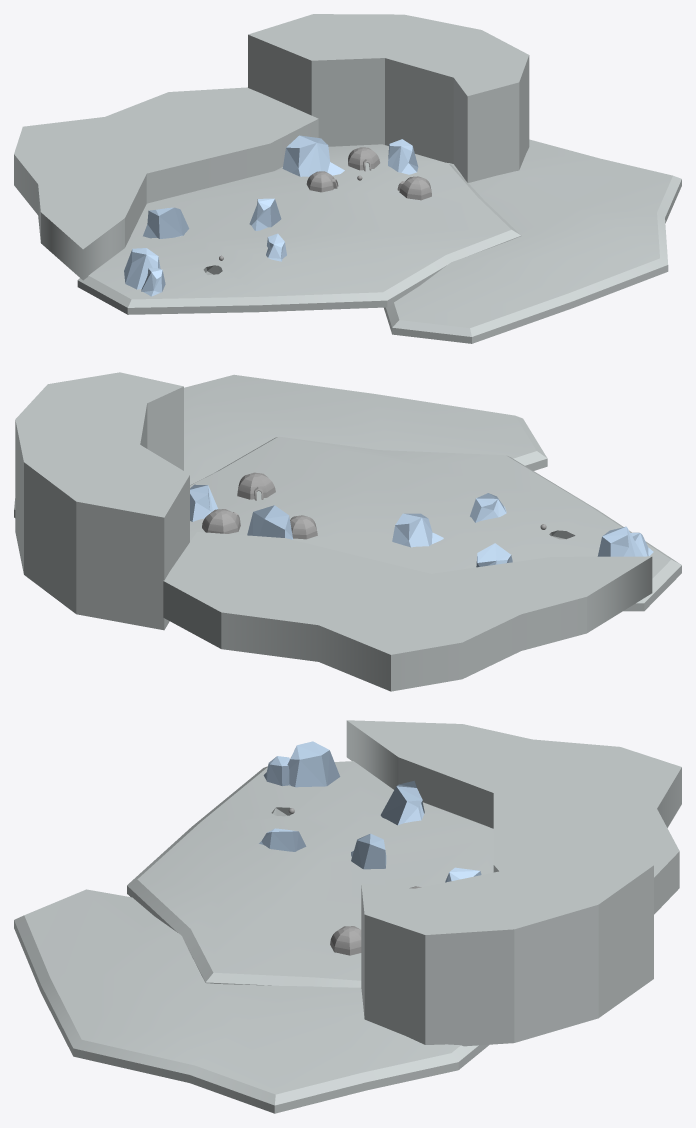
File: main island (1).fbx
3 renders of one model, top to bottom at view 1: azimuth 30°, elevation 25°; view 2: azimuth 150°, elevation 25°; view 3: azimuth 270°, elevation 25°, orthographic. The views are drawn at different scales.
Visible parts, largest first — view 1: polySurface51; view 2: polySurface51; view 3: polySurface51.
Part boxes in pixels (x1=…): polySurface51: x1=14, y1=14, x2=681, y2=343; polySurface51: x1=14, y1=372, x2=681, y2=691; polySurface51: x1=14, y1=720, x2=681, y2=1113.
Bounding box in the file's own units: 15287 × 2731 × 13061.
